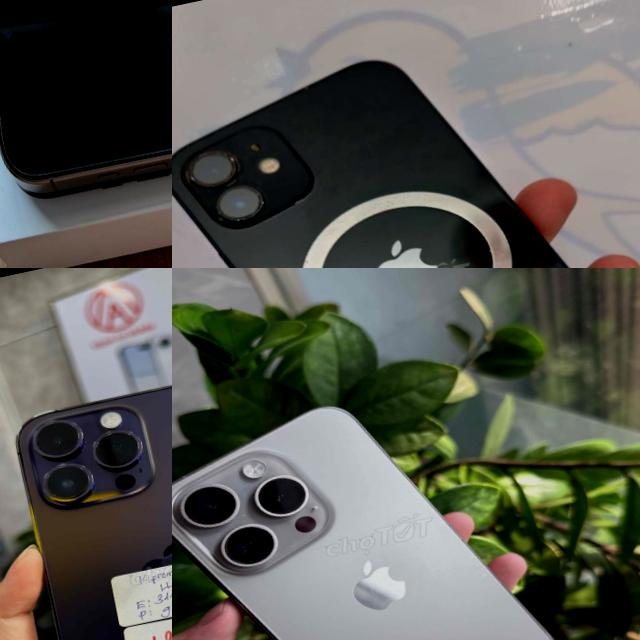scratch: (238, 508, 250, 518)
